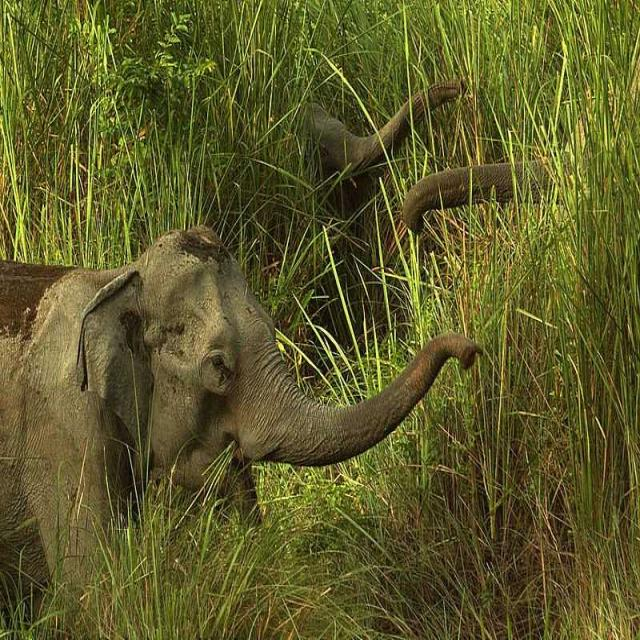Elephant: (6, 222, 506, 542), (290, 79, 482, 191)
